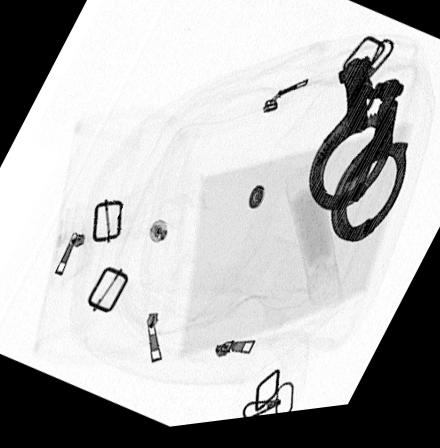HandCuffs: (307, 43, 407, 254)
